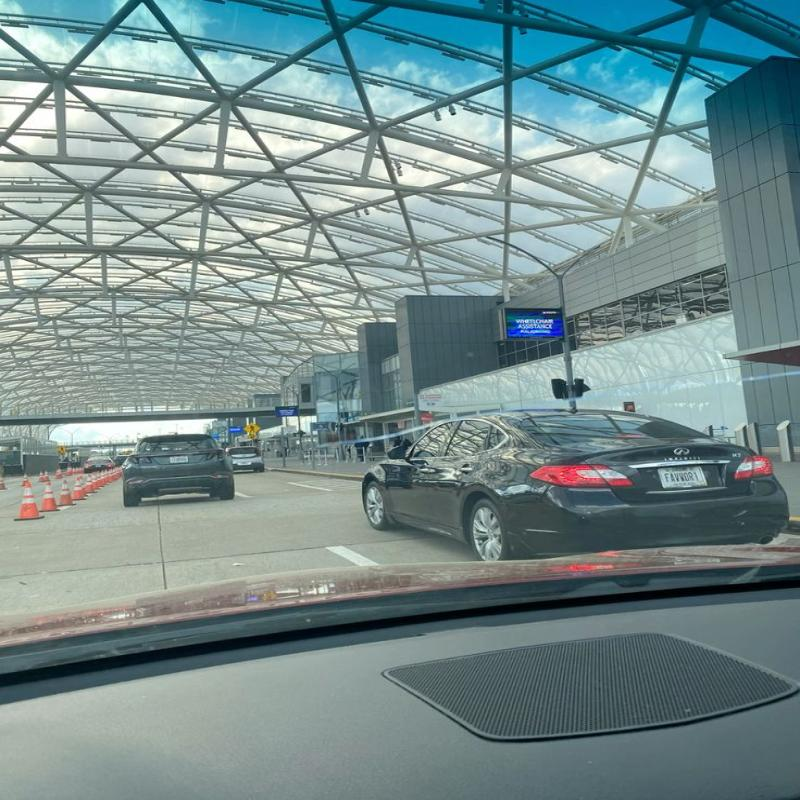license plate on a car: (659, 466, 707, 488), (170, 456, 188, 463), (237, 461, 253, 466)
